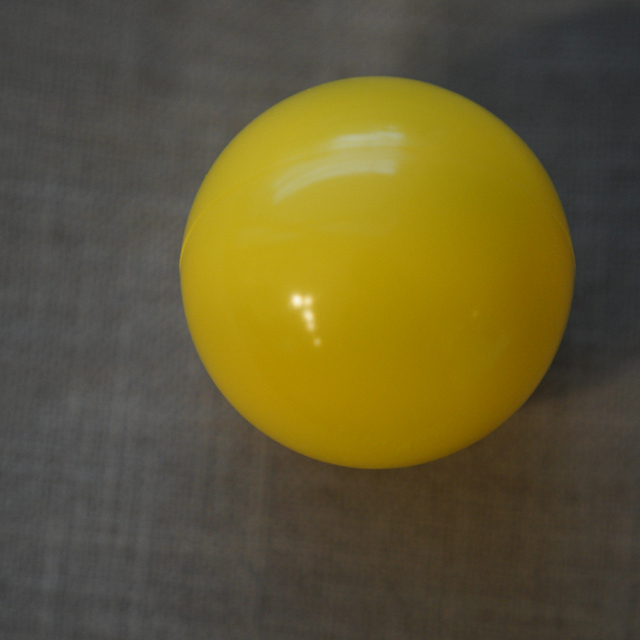Ball: (177, 77, 573, 474)
